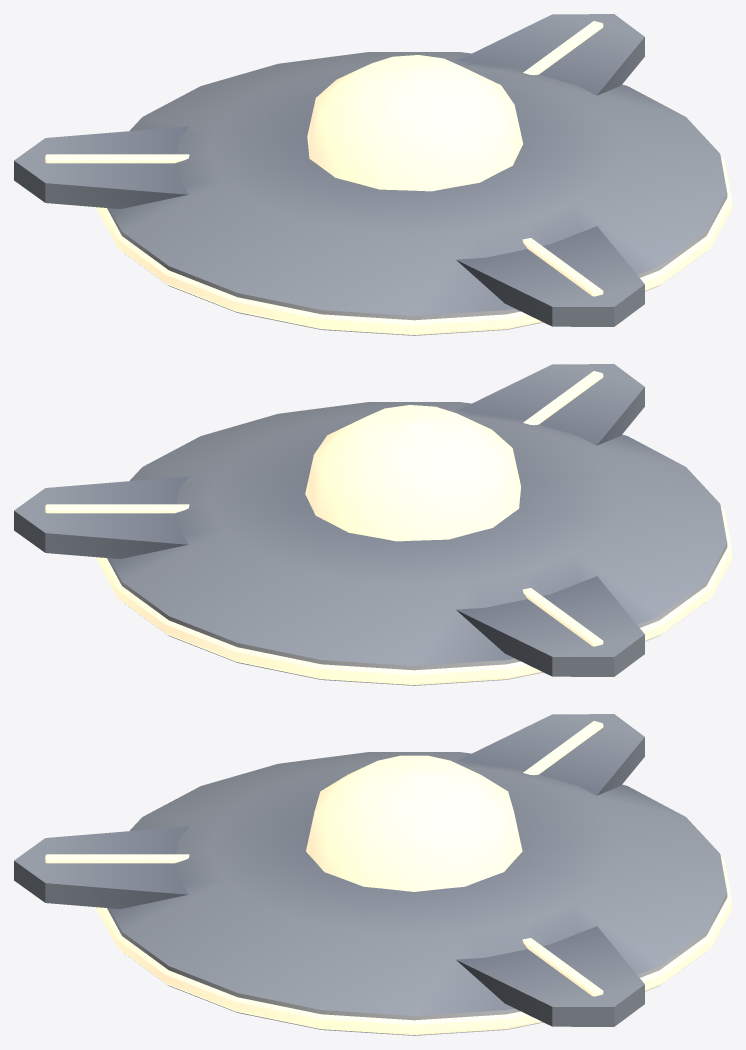
File: R4D_ExplosiveTrap_LOD1.fbx
3 views of the same model, one above another, from view 1: azimuth 30°, elevation 25°; view 2: azimuth 150°, elevation 25°; view 3: azimuth 270°, elevation 25° (orthographic).
Visible parts, largest first — view 1: R4D_ExplosiveTrap_LOD1; view 2: R4D_ExplosiveTrap_LOD1; view 3: R4D_ExplosiveTrap_LOD1.
Boxes of the visible parts, x1,y1,x2,y2 form: R4D_ExplosiveTrap_LOD1: (14, 14, 731, 335); R4D_ExplosiveTrap_LOD1: (14, 364, 731, 685); R4D_ExplosiveTrap_LOD1: (14, 714, 731, 1035).
Size of the model in its own units: 0.4417 by 0.105 by 0.4574.
